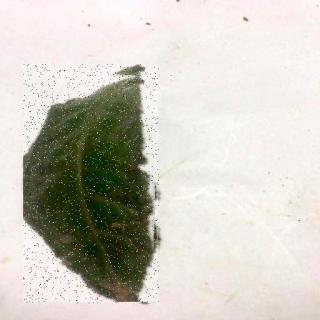Red Leaf Spot: (25, 66, 160, 305)
